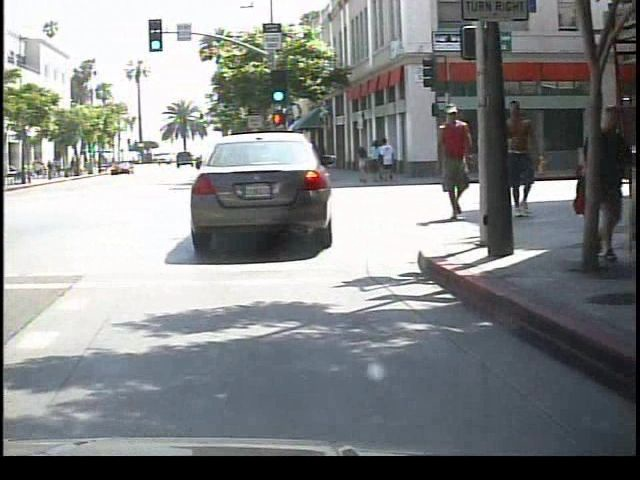person: (429, 101, 474, 223), (502, 97, 544, 224)
